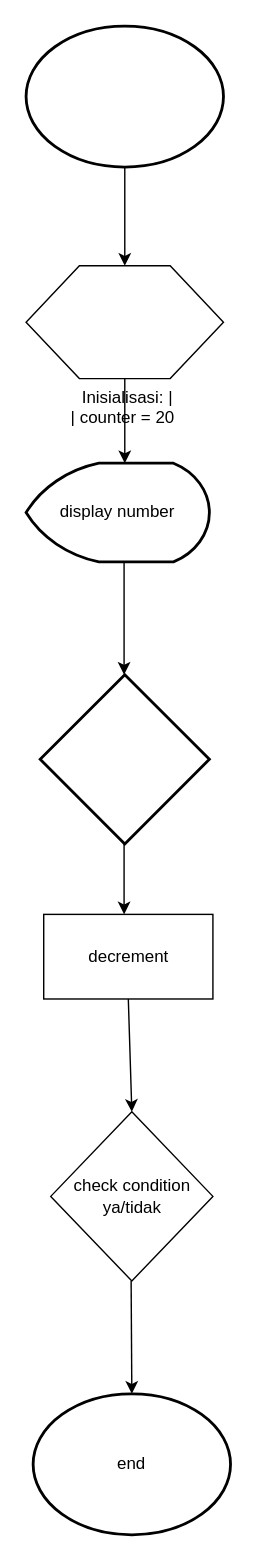
The diagram is 255 pixels wide and 1559 high, and some of its shapes have lost their labels. Here are the shapes that lost their labels. From the top down, the centre of each, then its label:
the point at 124,96: start
the point at 124,759: button pressed? ya/tidak
